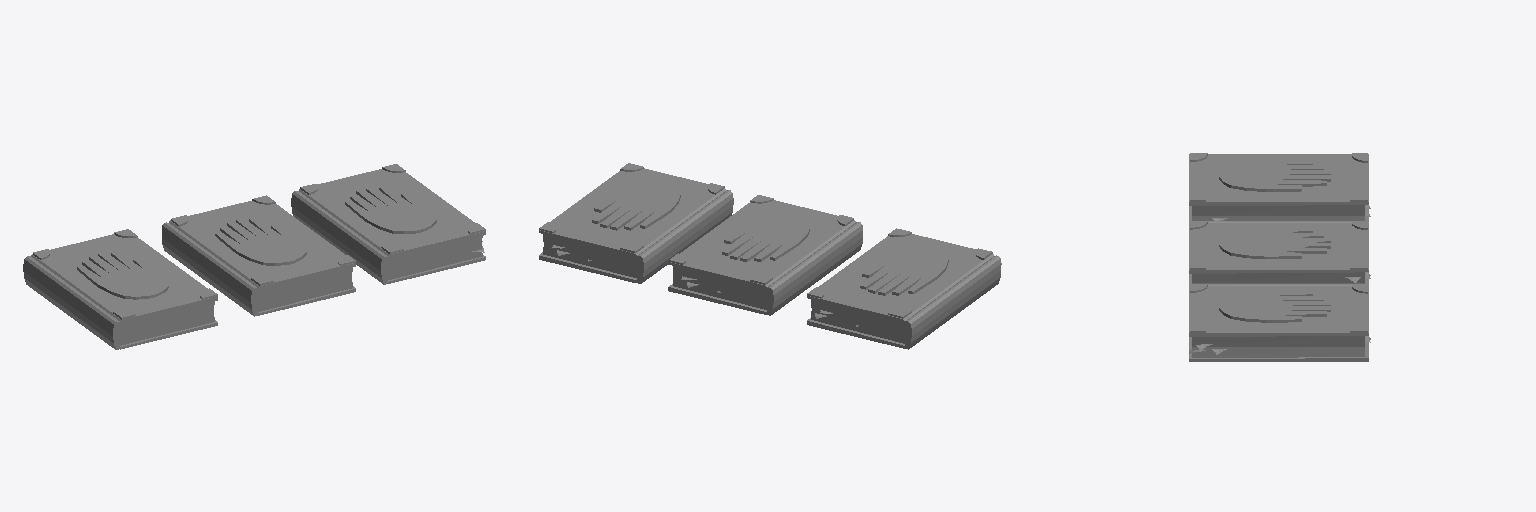
The model's file is libros.obj.
The picture shows the model from 3 angles: view 1: azimuth 30°, elevation 25°; view 2: azimuth 150°, elevation 25°; view 3: azimuth 270°, elevation 25°; orthographic projection.
Visible parts, largest first — view 1: Cube_001, Cube_003, Cube_002; view 2: Cube_003, Cube_001, Cube_002; view 3: Cube_002, Cube_001, Cube_003.
Part boxes in pixels (x1,y1,x2,y2): Cube_001: (23,229,217,349); Cube_003: (162,195,355,316); Cube_002: (291,164,485,284); Cube_003: (668,195,862,315); Cube_001: (807,228,1001,349); Cube_002: (539,163,733,283); Cube_002: (1189,284,1370,361); Cube_001: (1189,153,1370,220); Cube_003: (1189,221,1370,283).
Size of the model in its own units: 57.63 by 4.74 by 24.25.